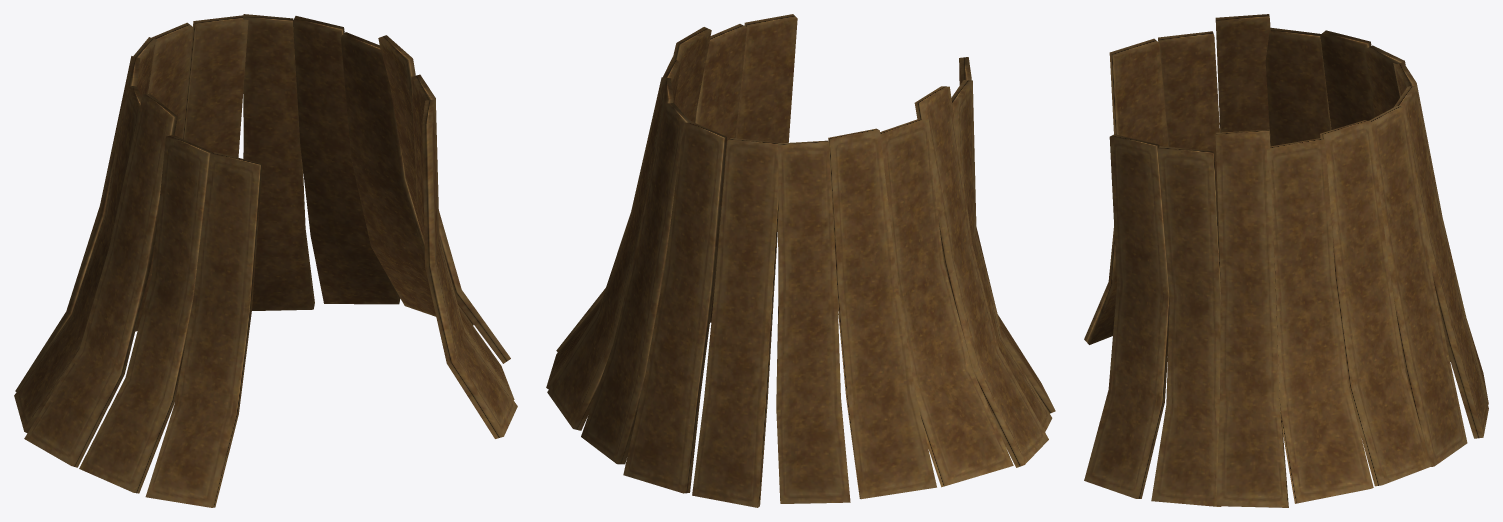
The model's file is clo_easterling02_v1_helmet.fbx.
3 renders of one model, left to right at view 1: azimuth 30°, elevation 25°; view 2: azimuth 150°, elevation 25°; view 3: azimuth 270°, elevation 25°, orthographic.
Parts seen in each view (by area): view 1: clo_easterling02_v1_helmet; view 2: clo_easterling02_v1_helmet; view 3: clo_easterling02_v1_helmet.
Part boxes in pixels (x1=…): clo_easterling02_v1_helmet: x1=14, y1=14, x2=517, y2=507; clo_easterling02_v1_helmet: x1=546, y1=14, x2=1055, y2=507; clo_easterling02_v1_helmet: x1=1084, y1=14, x2=1488, y2=507.
Size of the model in its own units: 0.3661 by 0.2792 by 0.2586.
1 material, 1 textured.
